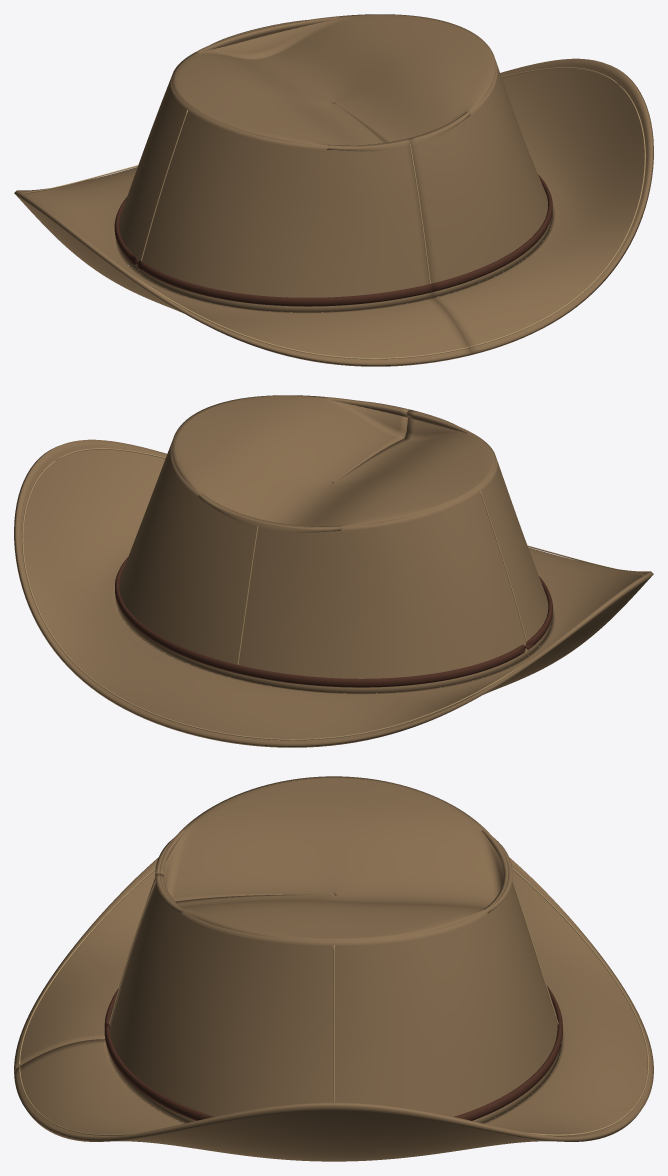
The model's file is Feminine-cowboy-headgear.glb.
The picture shows the model from 3 angles, top to bottom: view 1: azimuth 30°, elevation 25°; view 2: azimuth 150°, elevation 25°; view 3: azimuth 270°, elevation 25°; orthographic projection. The views are drawn at different scales.
Parts seen in each view (by area): view 1: 226 headgear / Headwear / cowboy fabric235, 226 headgear / Hair / root226, 226 headgear / Headwear / cowboy stitch235; view 2: 226 headgear / Headwear / cowboy fabric235, 226 headgear / Hair / root226, 226 headgear / Headwear / cowboy stitch235; view 3: 226 headgear / Headwear / cowboy fabric235, 226 headgear / Hair / root226, 226 headgear / Headwear / cowboy stitch235.
Boxes of the visible parts, x1,y1,x2,y2 form: 226 headgear / Headwear / cowboy fabric235: (14,14,653,366); 226 headgear / Hair / root226: (114,174,552,306); 226 headgear / Headwear / cowboy stitch235: (23,67,645,359); 226 headgear / Headwear / cowboy fabric235: (14,395,653,747); 226 headgear / Hair / root226: (115,557,552,687); 226 headgear / Headwear / cowboy stitch235: (22,448,644,740); 226 headgear / Headwear / cowboy fabric235: (14,776,653,1161); 226 headgear / Hair / root226: (104,985,562,1120); 226 headgear / Headwear / cowboy stitch235: (19,868,648,1136).
Bounding box in the file's own units: 1.52 × 0.4643 × 1.25.
